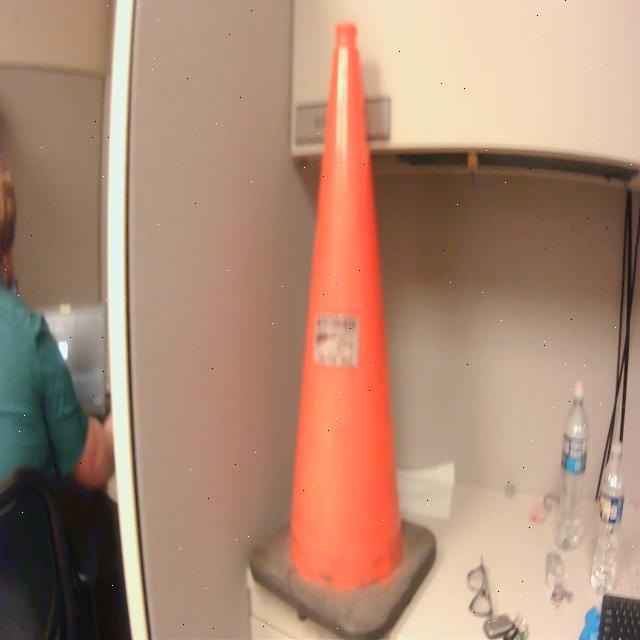traffic cone: (245, 13, 441, 640)
